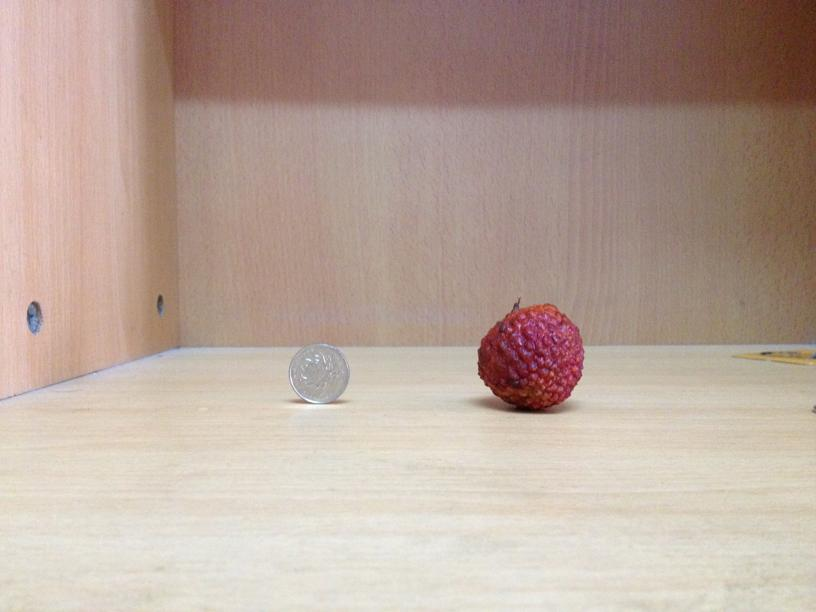coin: (286, 342, 348, 404)
litchi: (476, 297, 583, 410)
